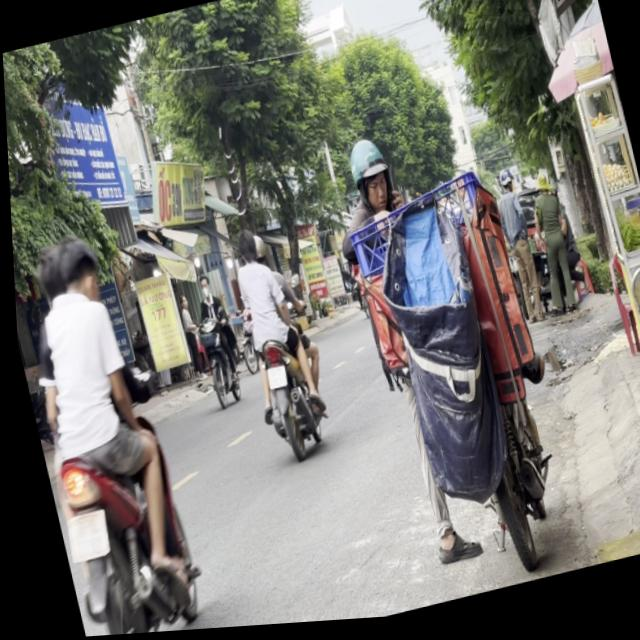helmet: (245, 231, 264, 268)
licenseplate: (9, 219, 210, 640), (214, 217, 333, 470), (179, 269, 244, 414)
motorcyclist: (48, 233, 100, 309), (27, 246, 67, 306), (228, 228, 254, 268), (192, 272, 208, 301)
nohelmet: (56, 507, 105, 562), (260, 367, 282, 391)
